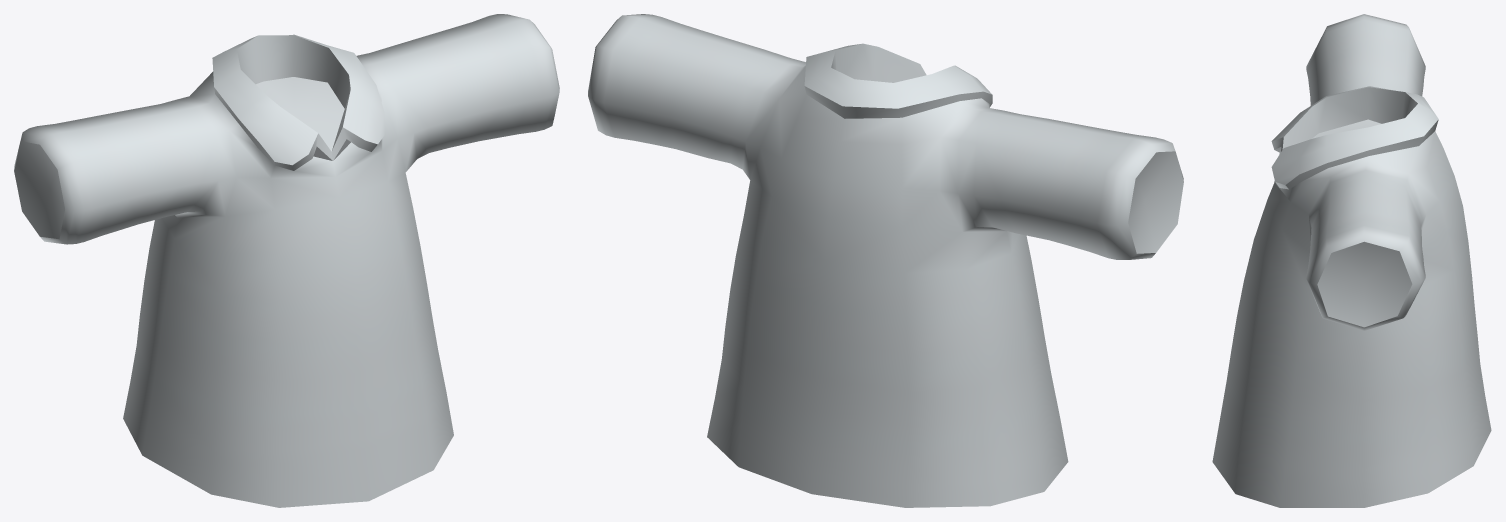
Rendered from Top_44.fbx.
The picture shows the model from 3 angles, left to right: view 1: azimuth 30°, elevation 25°; view 2: azimuth 150°, elevation 25°; view 3: azimuth 270°, elevation 25°; orthographic projection. The views are drawn at different scales.
Visible parts, largest first — view 1: Top_44; view 2: Top_44; view 3: Top_44.
Part boxes in pixels (box(x1,y1,x2,y2)): Top_44: box(14, 14, 559, 507); Top_44: box(588, 14, 1183, 507); Top_44: box(1212, 14, 1491, 507).
Bounding box in the file's own units: 80.8 × 60.1 × 42.41.
